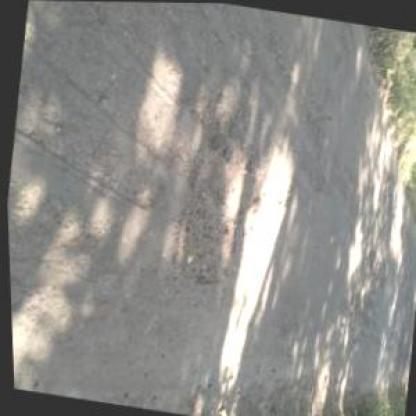pothole: (166, 121, 274, 298)
